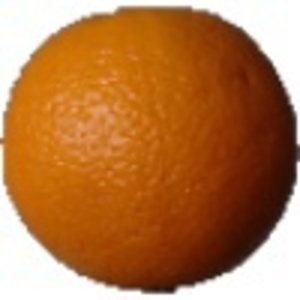laranja: (3, 2, 299, 295)
